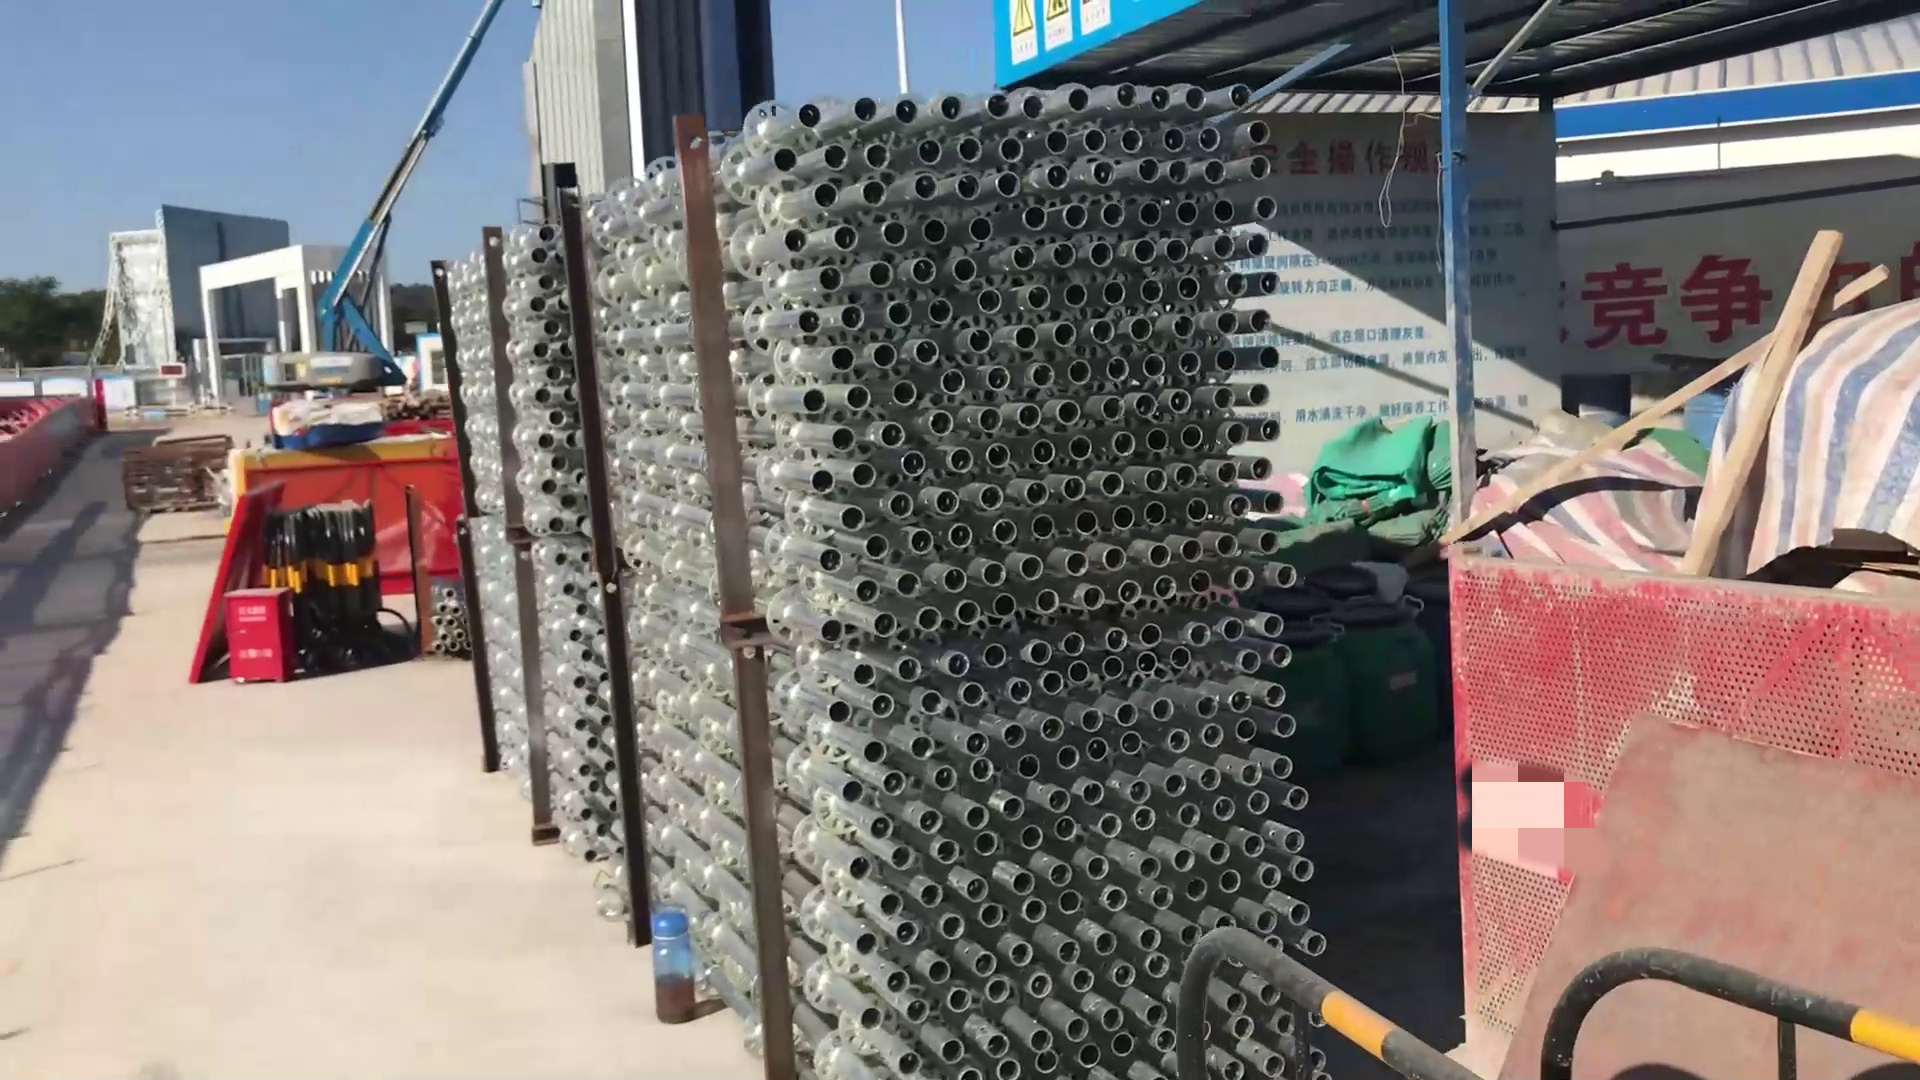fence: (1425, 563, 1920, 1080), (235, 451, 465, 574), (269, 498, 392, 669), (1, 388, 121, 502)
scaffold: (439, 94, 1336, 1080)
slogan: (994, 3, 1131, 55)
